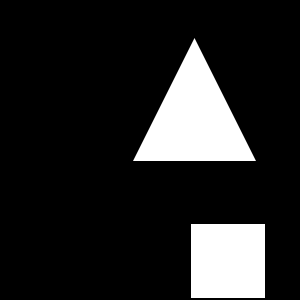circle: (191, 224, 265, 298)
triangle: (133, 38, 256, 161)
